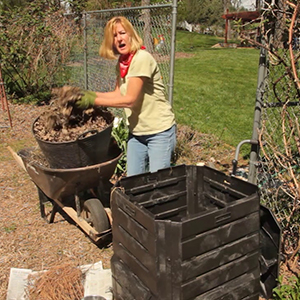person: (73, 12, 187, 180)
